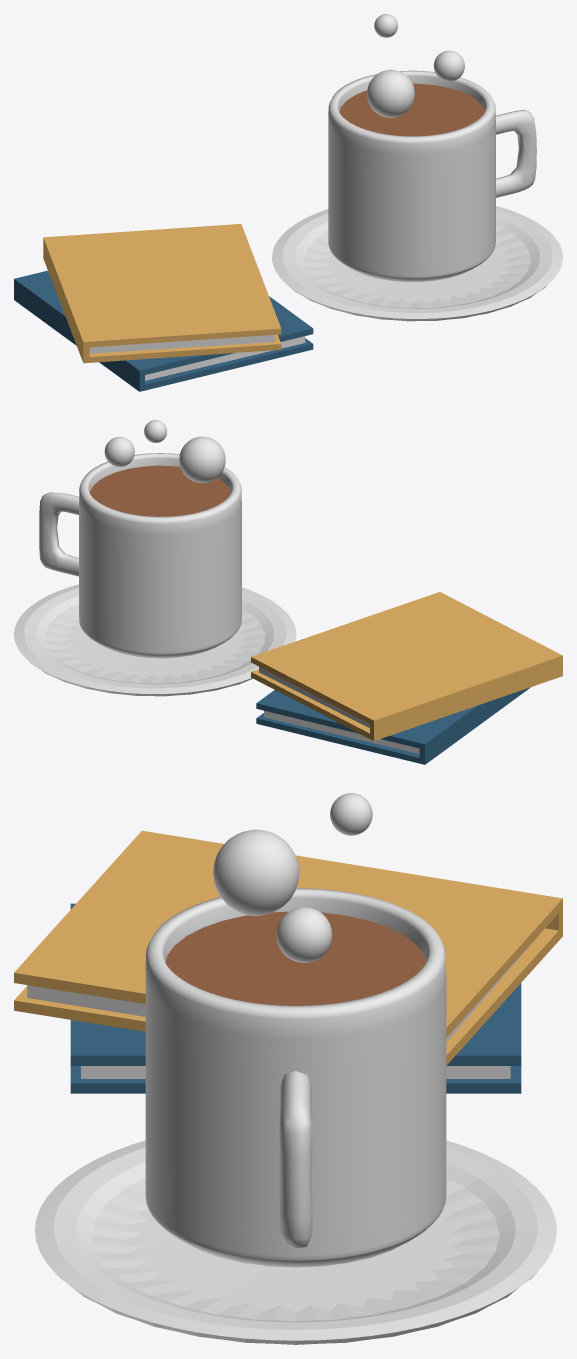
The model's file is coffee.fbx.
3 views of the same model, one above another, from view 1: azimuth 30°, elevation 25°; view 2: azimuth 150°, elevation 25°; view 3: azimuth 270°, elevation 25° (orthographic). The views are drawn at different scales.
Visible parts, largest first — view 1: 立方体.002, 柱体, 柱体.001, 立方体.001, 柱体.002, 立方体, 球体, 球体.001; view 2: 立方体.002, 柱体, 柱体.001, 立方体.001, 柱体.002, 立方体, 球体, 球体.001, 球体.002; view 3: 柱体, 柱体.001, 立方体.002, 柱体.002, 立方体.001, 球体, 立方体, 球体.001, 球体.002.
Part boxes in pixels (left/top/right/bottom): 立方体.002: left=43, top=224, right=281, bottom=363; 柱体: left=328, top=70, right=495, bottom=281; 柱体.001: left=272, top=206, right=562, bottom=321; 立方体.001: left=14, top=270, right=313, bottom=391; 柱体.002: left=339, top=83, right=484, bottom=136; 立方体: left=496, top=110, right=536, bottom=197; 球体: left=367, top=69, right=414, bottom=117; 球体.001: left=433, top=50, right=464, bottom=81; 立方体.002: left=251, top=592, right=562, bottom=740; 柱体: left=79, top=453, right=241, bottom=658; 柱体.001: left=14, top=584, right=296, bottom=696; 立方体.001: left=256, top=687, right=530, bottom=764; 柱体.002: left=90, top=465, right=230, bottom=516; 立方体: left=39, top=492, right=79, bottom=576; 球体: left=179, top=436, right=225, bottom=483; 球体.001: left=104, top=436, right=134, bottom=466; 球体.002: left=144, top=420, right=167, bottom=442; 柱体: left=145, top=888, right=446, bottom=1267; 柱体.001: left=35, top=1140, right=556, bottom=1344; 立方体.002: left=14, top=830, right=562, bottom=1065; 柱体.002: left=165, top=911, right=426, bottom=1005; 立方体.001: left=70, top=903, right=521, bottom=1093; 球体: left=213, top=829, right=299, bottom=915; 立方体: left=279, top=1071, right=312, bottom=1248; 球体.001: left=276, top=907, right=332, bottom=962; 球体.002: left=330, top=793, right=372, bottom=835.
Size of what is drawn, in the model's own units: 688 by 320 by 363.
